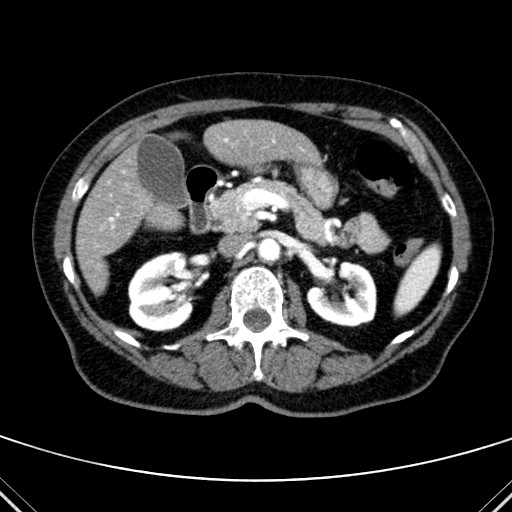vesicula: (135, 133, 192, 212)
